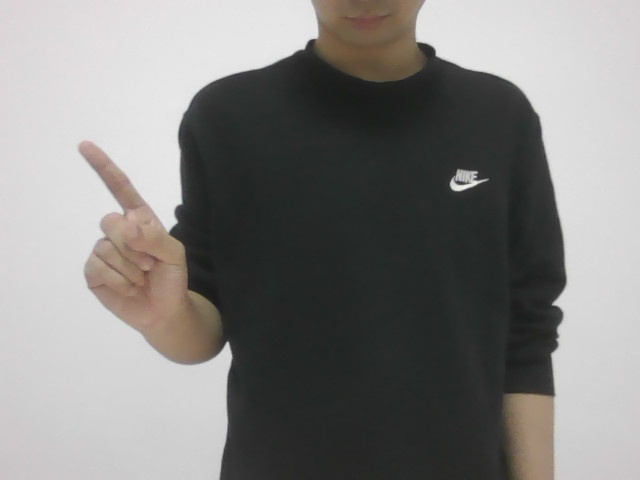what: (59, 128, 197, 345)
